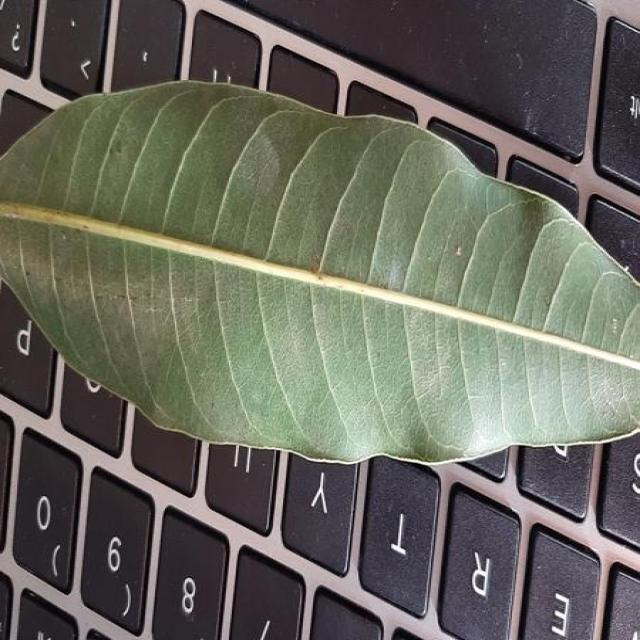mango: (2, 81, 638, 463)
sooty mould: (3, 94, 637, 461)
